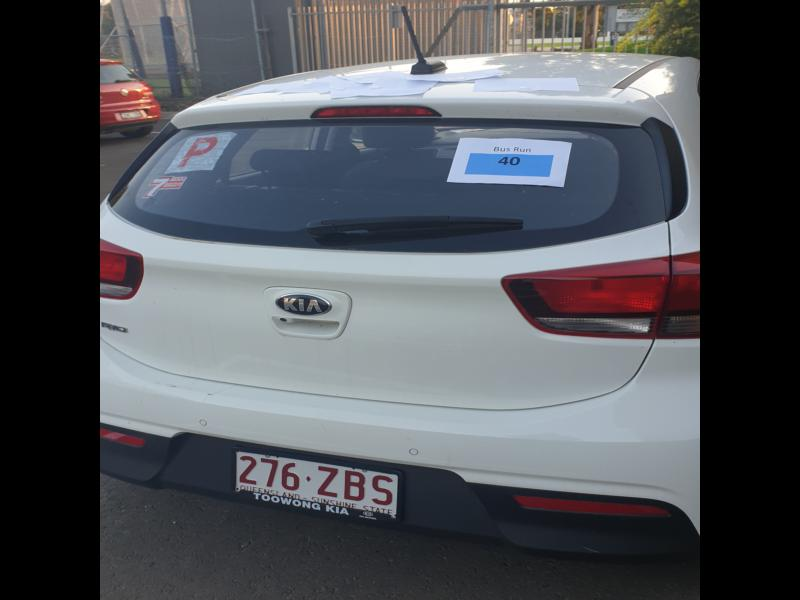BusRun: (463, 151, 554, 177)
PlateNo: (233, 452, 400, 516)
